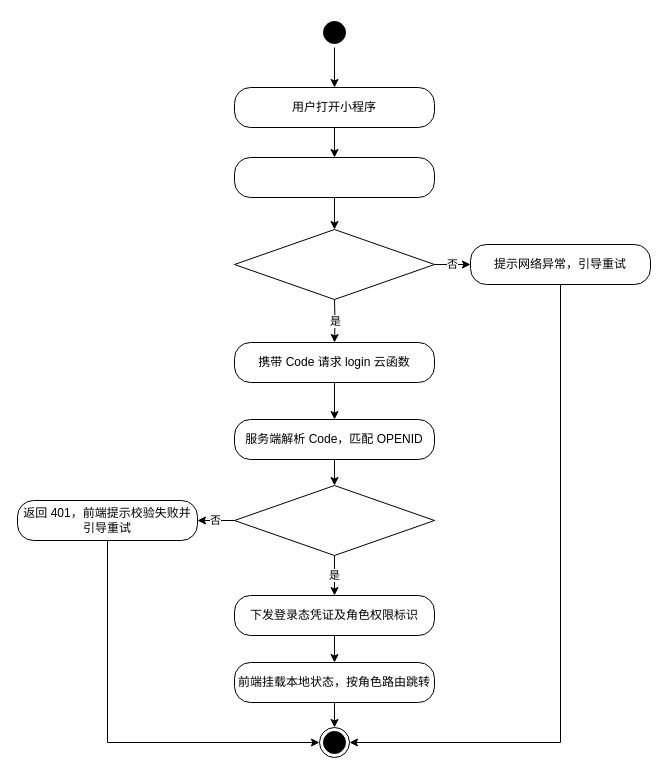
The diagram is 668 pixels wide and 775 high, and some of its shapes have lost their labels. Each missing label, with the centre of its shape:
"Code 获取成功" belongs at [334,264].
"OPENID 校验通过" belongs at [334,520].
"客户端获取临时凭证 Code" belongs at [334,177].
